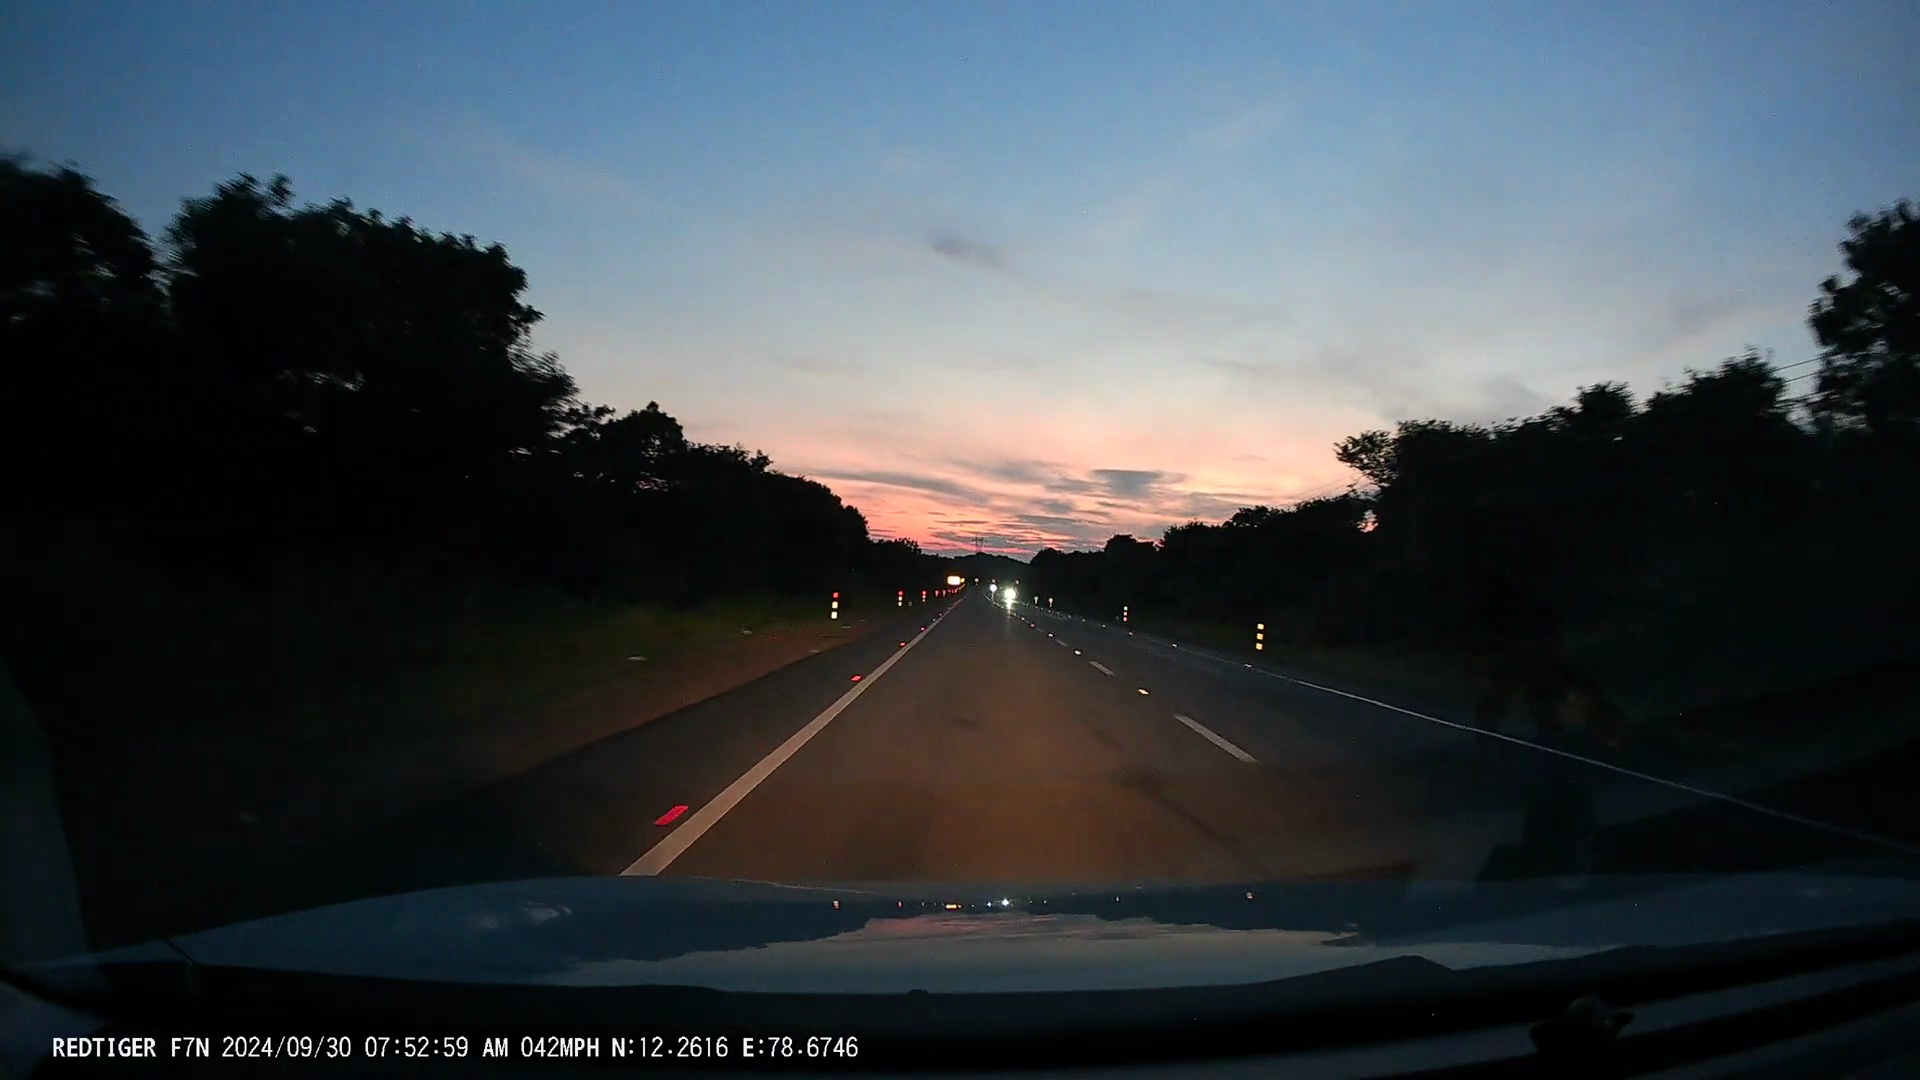headlight: (1004, 587, 1017, 604), (989, 582, 997, 593)
two wheeler: (1000, 580, 1025, 611), (984, 572, 997, 600)
